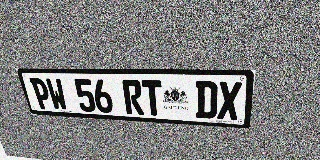5: (73, 79, 97, 112)
6: (91, 79, 114, 113)
D: (196, 81, 218, 119)
P: (29, 78, 53, 110)
R: (122, 80, 144, 115)
T: (141, 80, 163, 116)
W: (45, 78, 69, 111)
X: (217, 81, 242, 120)
